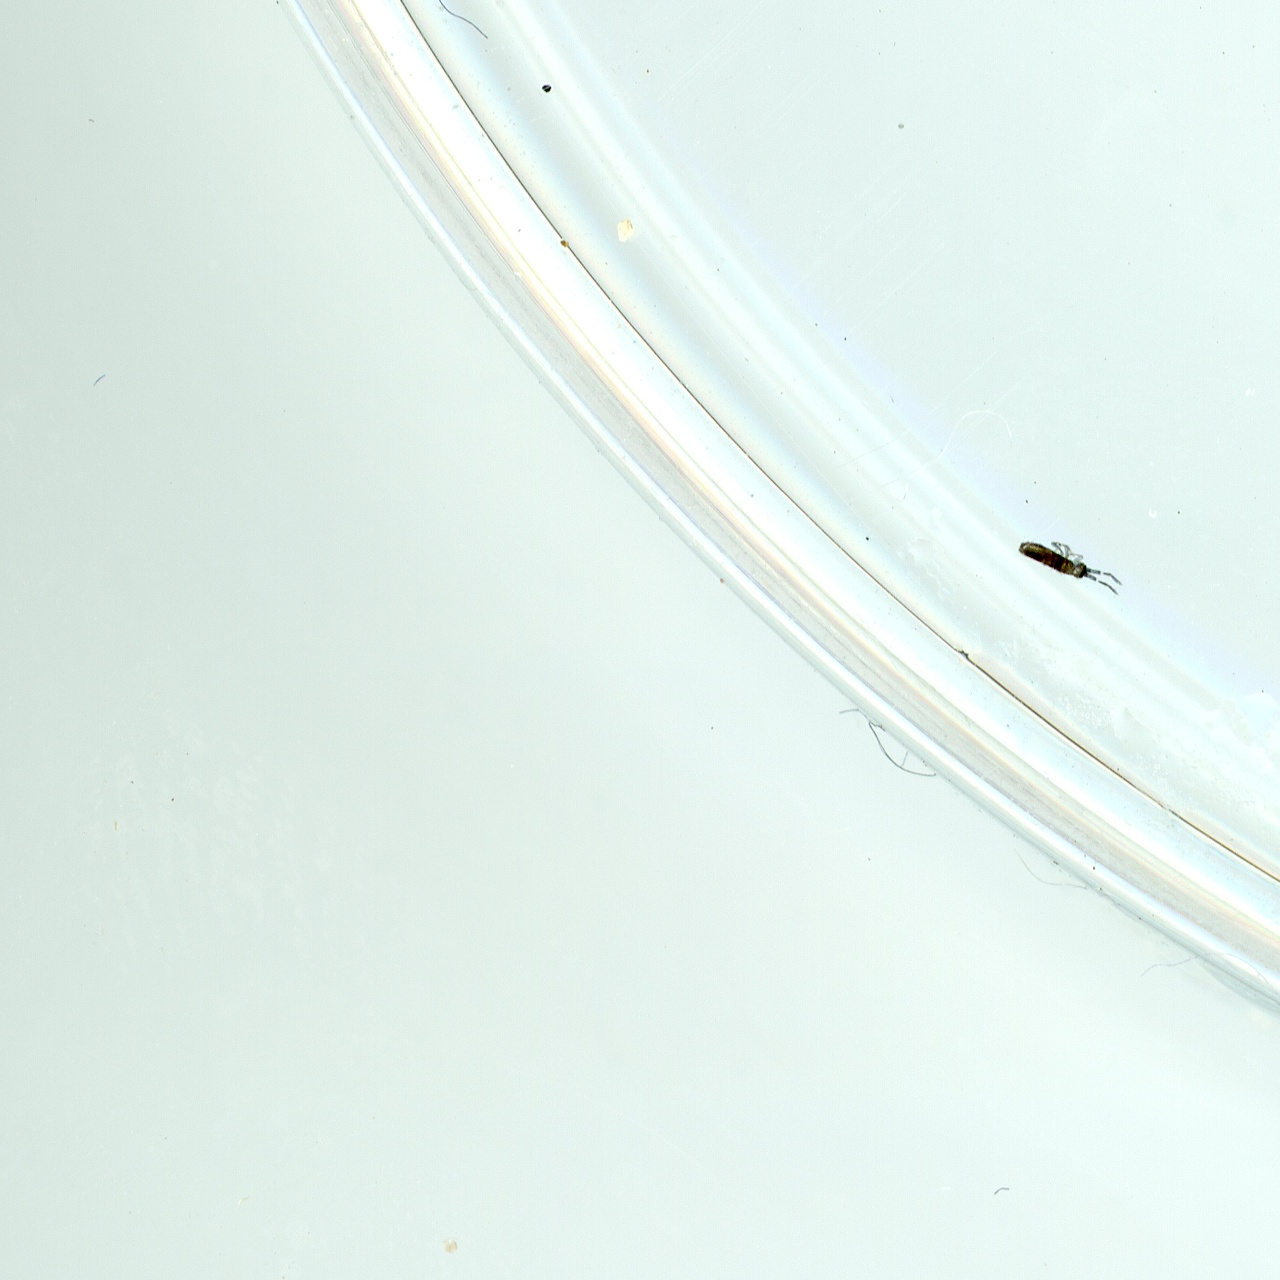arthropod: (1001, 516, 1136, 610)
